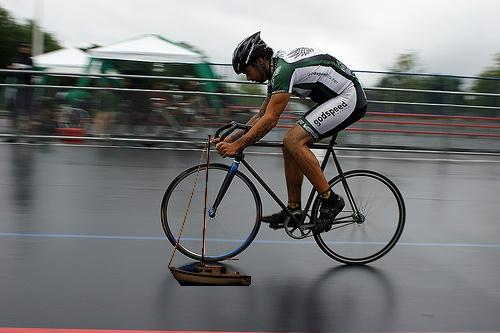tampered: (169, 136, 251, 286)
